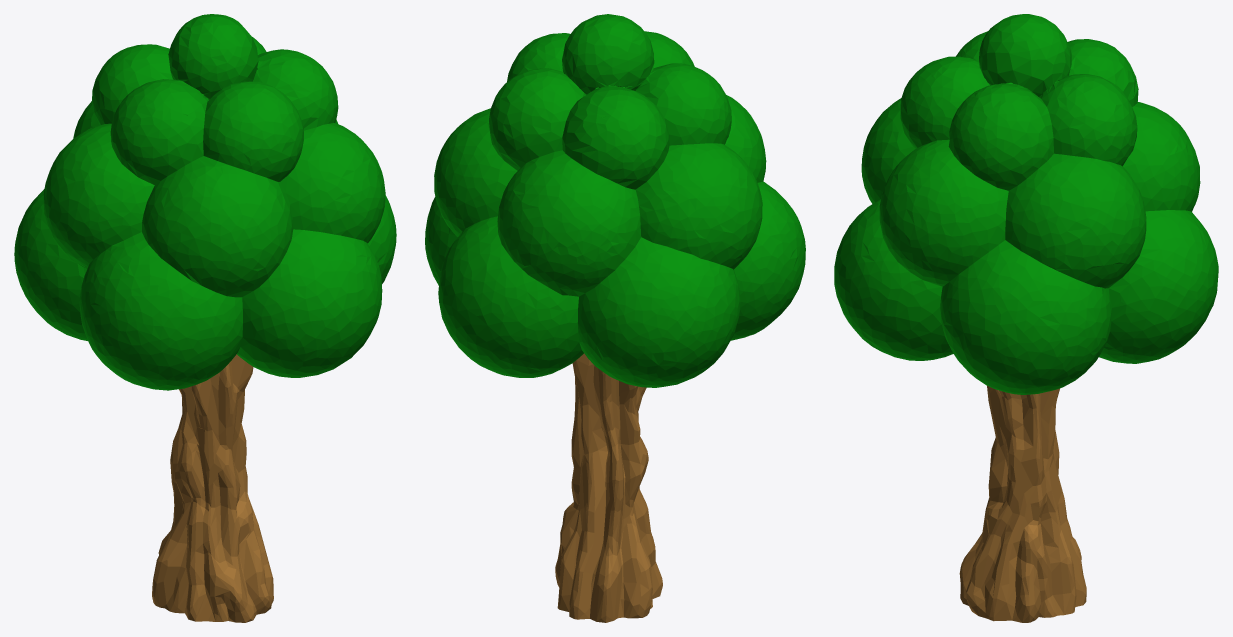
File: Tree_Stock_01.glb
3 renders of one model, left to right at view 1: azimuth 30°, elevation 25°; view 2: azimuth 150°, elevation 25°; view 3: azimuth 270°, elevation 25°, orthographic.
Parts seen in each view (by area): view 1: Tree_Stock_01; view 2: Tree_Stock_01; view 3: Tree_Stock_01.
Boxes of the visible parts, box(x1,y1,x2,y2) form: Tree_Stock_01: box(14, 14, 396, 622); Tree_Stock_01: box(425, 14, 805, 622); Tree_Stock_01: box(834, 14, 1218, 622).
Bounding box in the file's own units: 2.32 × 3.96 × 2.37.
